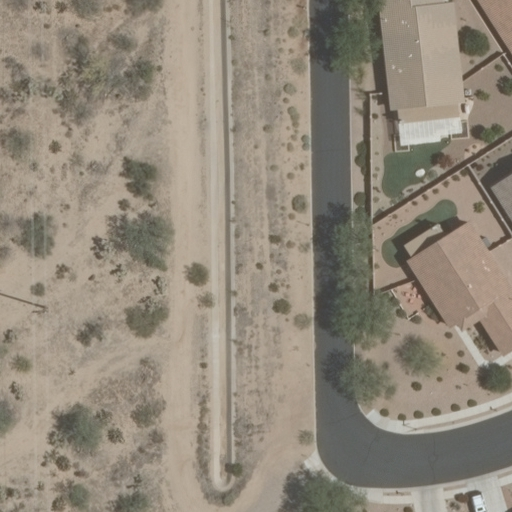DT: (27, 298, 52, 319)
